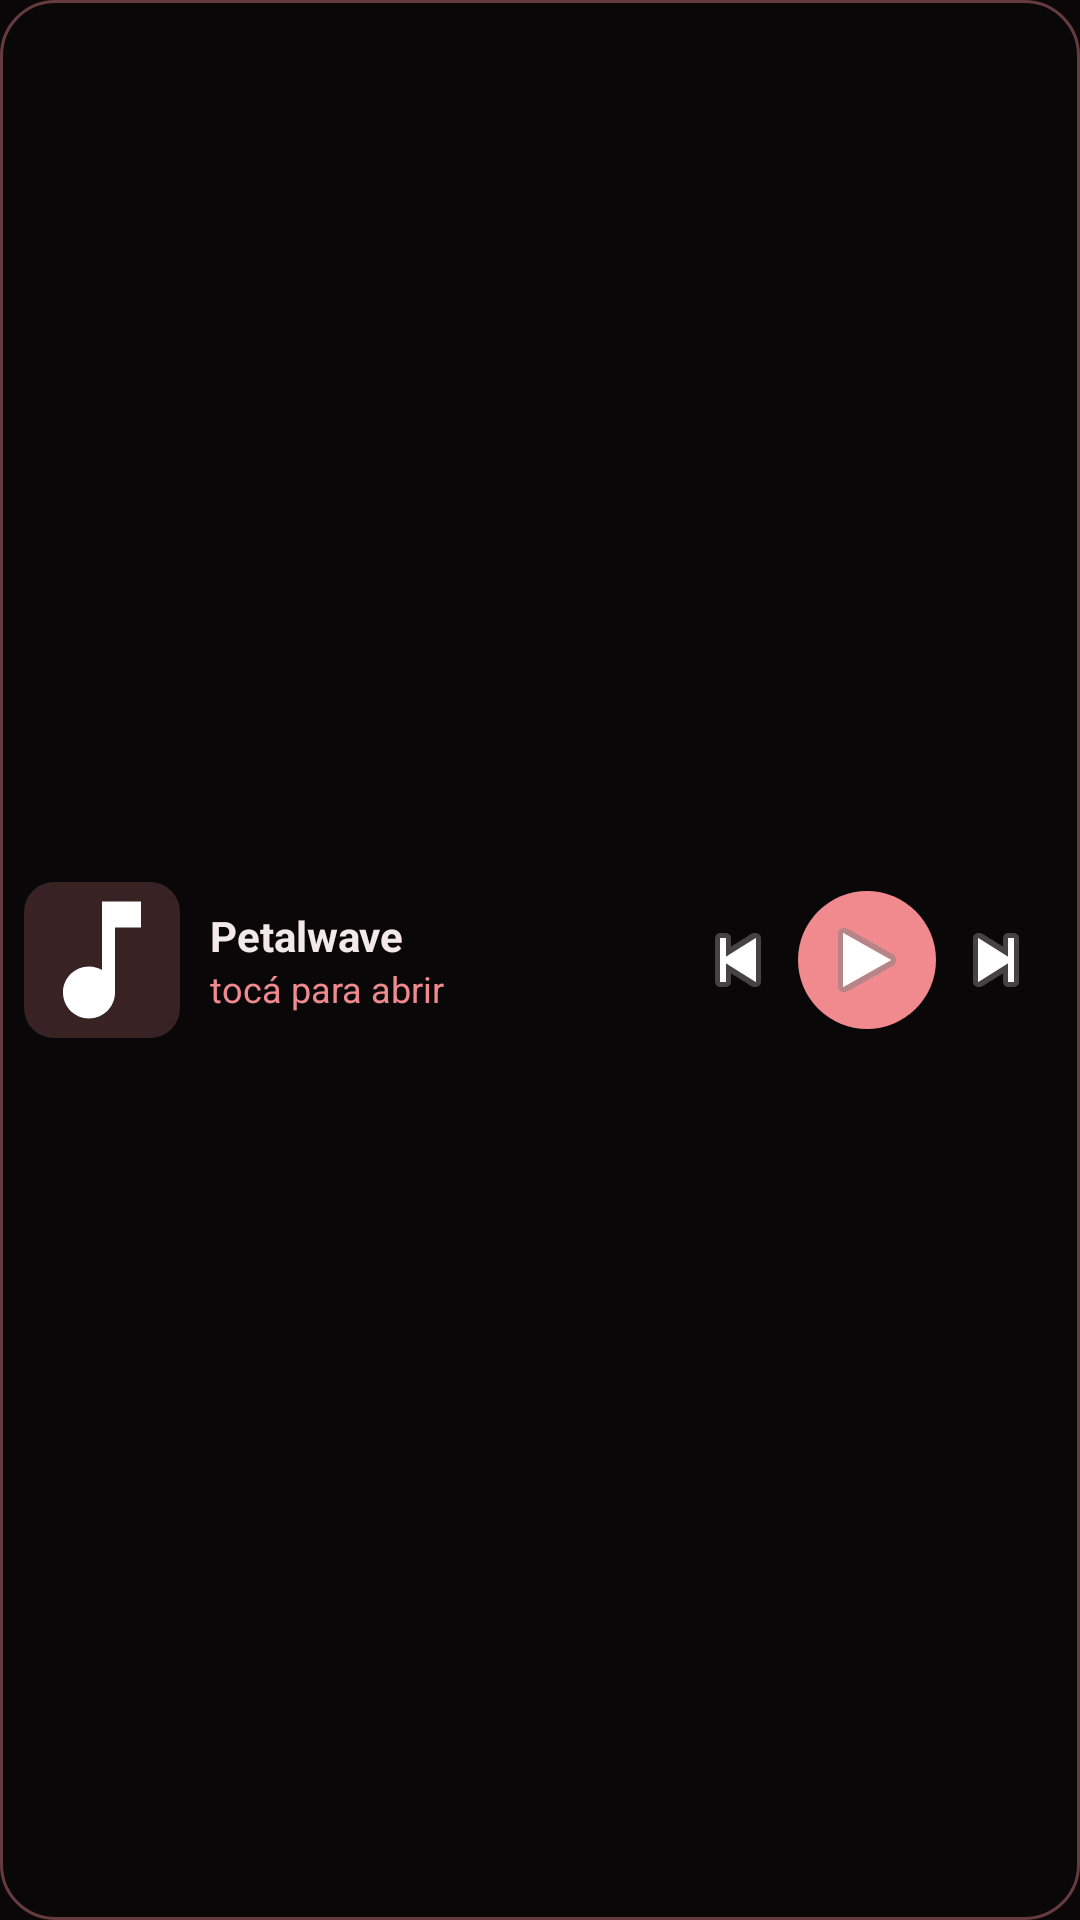

Named icons in this screenshot (1080w x 1920h) and their bounding boxes, (x1, y1, x2, y2):
anterior: (715, 933, 761, 987)
carátula: (24, 882, 180, 1038)
play o pausa: (798, 891, 936, 1029)
siguiente: (973, 933, 1019, 987)
